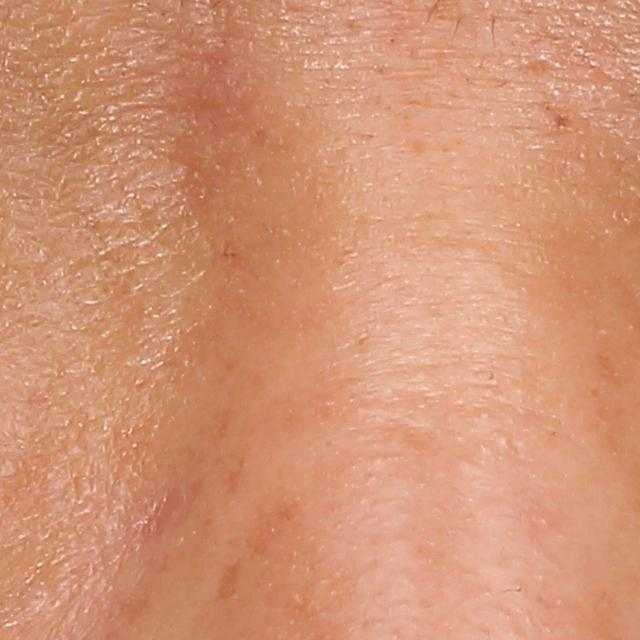melasma: (248, 493, 305, 566), (213, 556, 241, 605)
